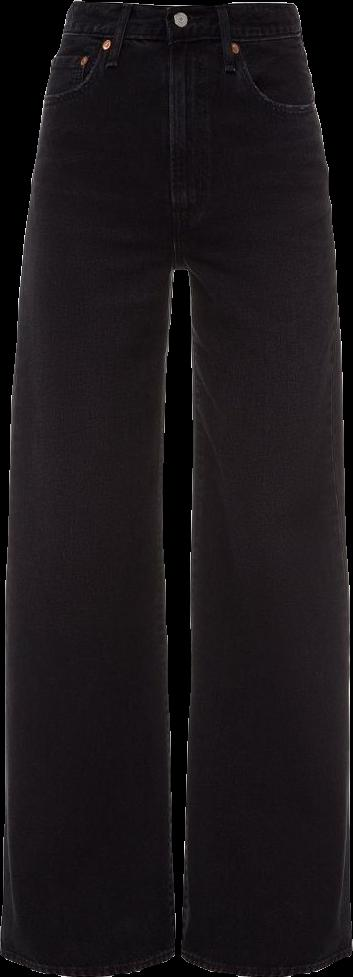Hemline: (179, 937, 352, 975), (1, 946, 178, 976)
Pantleg: (171, 0, 351, 975), (1, 0, 177, 976)
Waistline: (60, 28, 305, 51), (66, 0, 297, 19)
